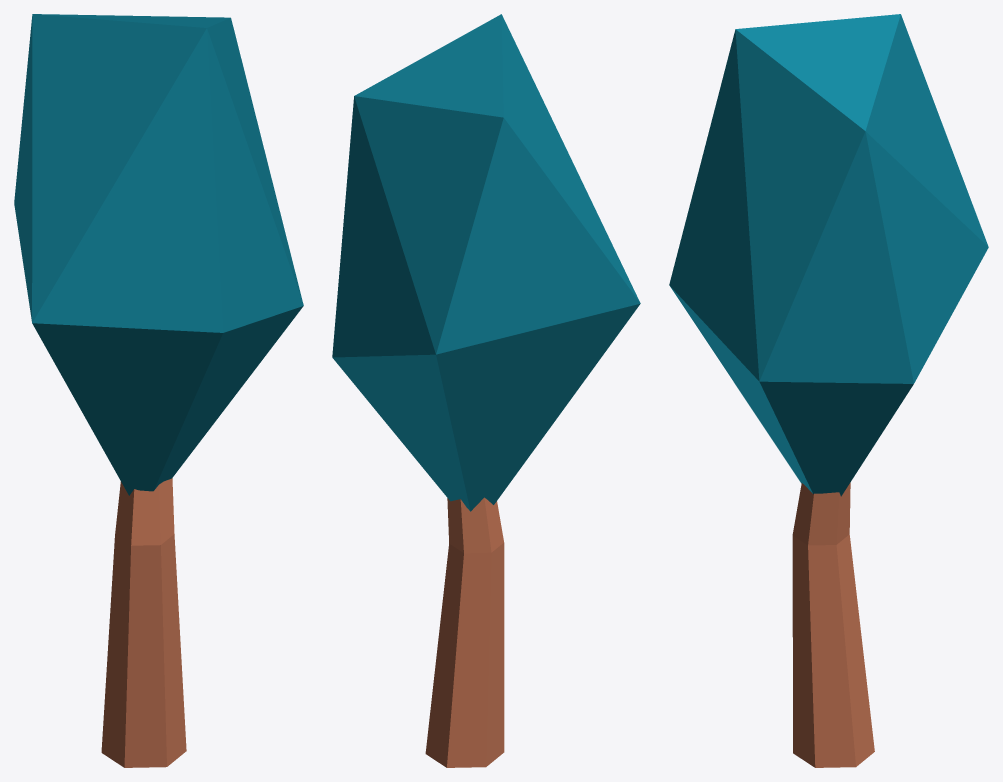
Rendered from Tree_08_summer_blue_mat.fbx.
3 renders of one model, left to right at view 1: azimuth 30°, elevation 25°; view 2: azimuth 150°, elevation 25°; view 3: azimuth 270°, elevation 25°, orthographic. The views are drawn at different scales.
Parts seen in each view (by area): view 1: Tree_08_summer_blue_mat; view 2: Tree_08_summer_blue_mat; view 3: Tree_08_summer_blue_mat.
Boxes of the visible parts, x1,y1,x2,y2 form: Tree_08_summer_blue_mat: (14, 14, 303, 767); Tree_08_summer_blue_mat: (332, 14, 640, 767); Tree_08_summer_blue_mat: (669, 14, 988, 767).
Size of the model in its own units: 93.3 by 249 by 98.84.
